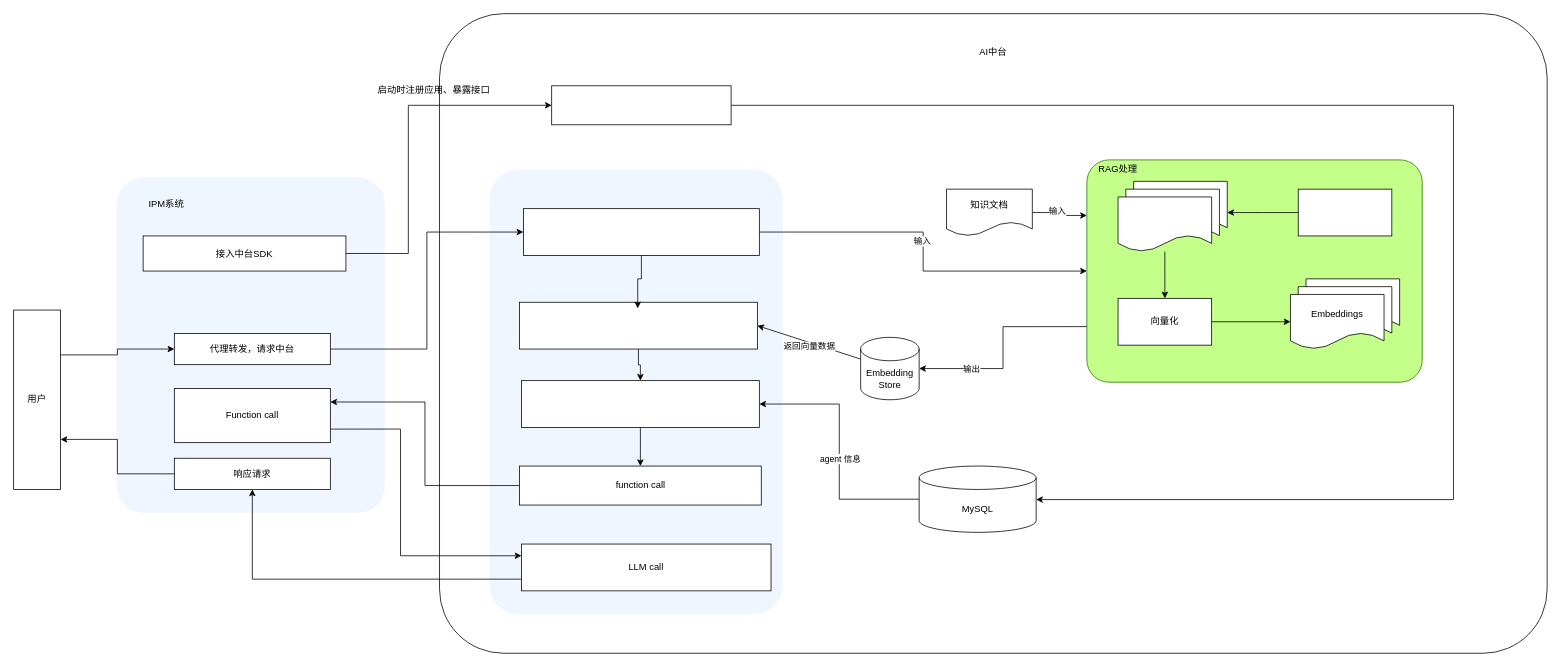
Some shapes in this 1561 by 667 pixel diagram are drawn without their labels. The shapes that lost their labels are listed below. From the top down, each one's box as (x1, y1, x2, y2) in pixels, then its label:
(551, 85, 731, 125): 鉴权、更新应用信息
(523, 208, 759, 255): 接收请求
(1117, 196, 1212, 252): Segments
(1297, 188, 1392, 236): 分词处理
(519, 301, 757, 349): 拼接prompt& 检索数据库
(521, 380, 759, 427): pre LLM call
